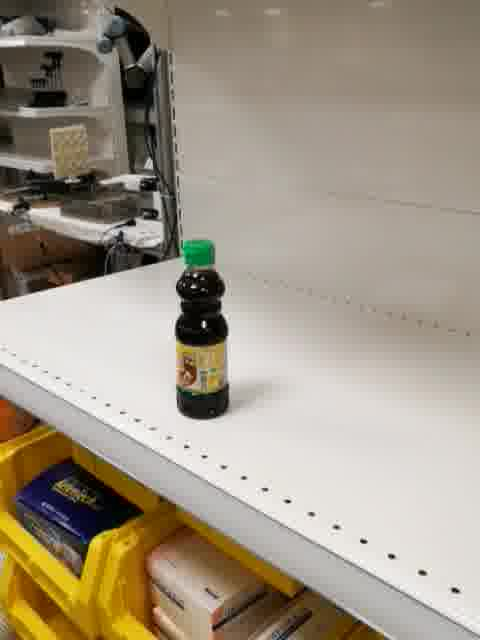cookingoil: (173, 236, 230, 421)
